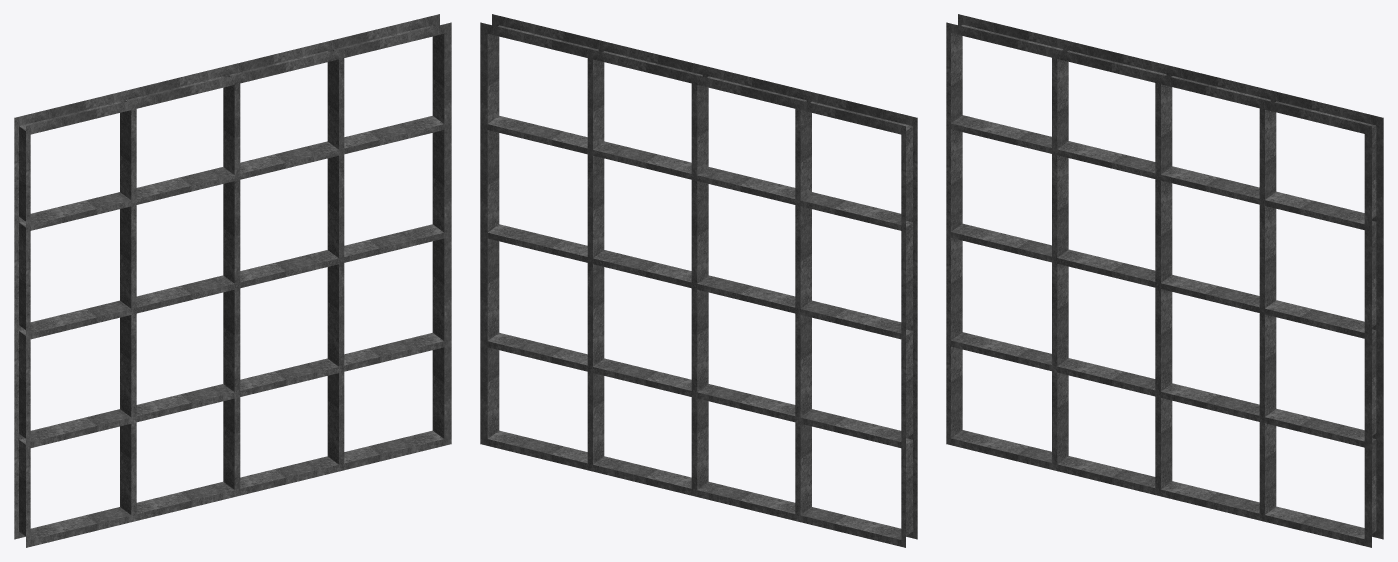
File: window_frame.FBX
3 views of the same model, side by side, from view 1: azimuth 30°, elevation 25°; view 2: azimuth 150°, elevation 25°; view 3: azimuth 330°, elevation 25° (orthographic).
Parts seen in each view (by area): view 1: window_frame; view 2: window_frame; view 3: window_frame.
Part boxes in pixels (box(x1,y1,x2,y2)): window_frame: box(14, 14, 451, 547); window_frame: box(480, 14, 917, 547); window_frame: box(946, 14, 1383, 547).
Size of the model in its own units: 4.51 by 4.27 by 0.2122.
1 material, 1 textured.
